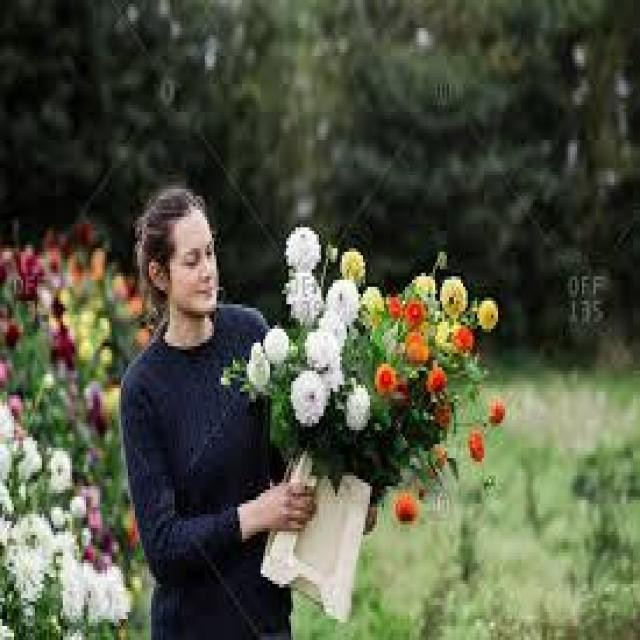organic waste: (284, 214, 326, 276), (324, 276, 366, 332), (298, 320, 340, 376), (283, 276, 329, 326), (430, 270, 472, 318), (290, 369, 327, 418), (345, 385, 369, 437), (264, 323, 290, 369), (246, 341, 266, 386), (479, 296, 498, 334), (430, 378, 450, 395)
